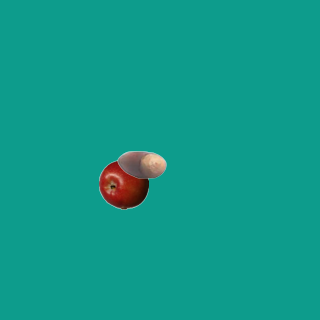Apple Braeburn: (98, 159, 148, 209)
Hazelnut: (116, 139, 166, 189)
